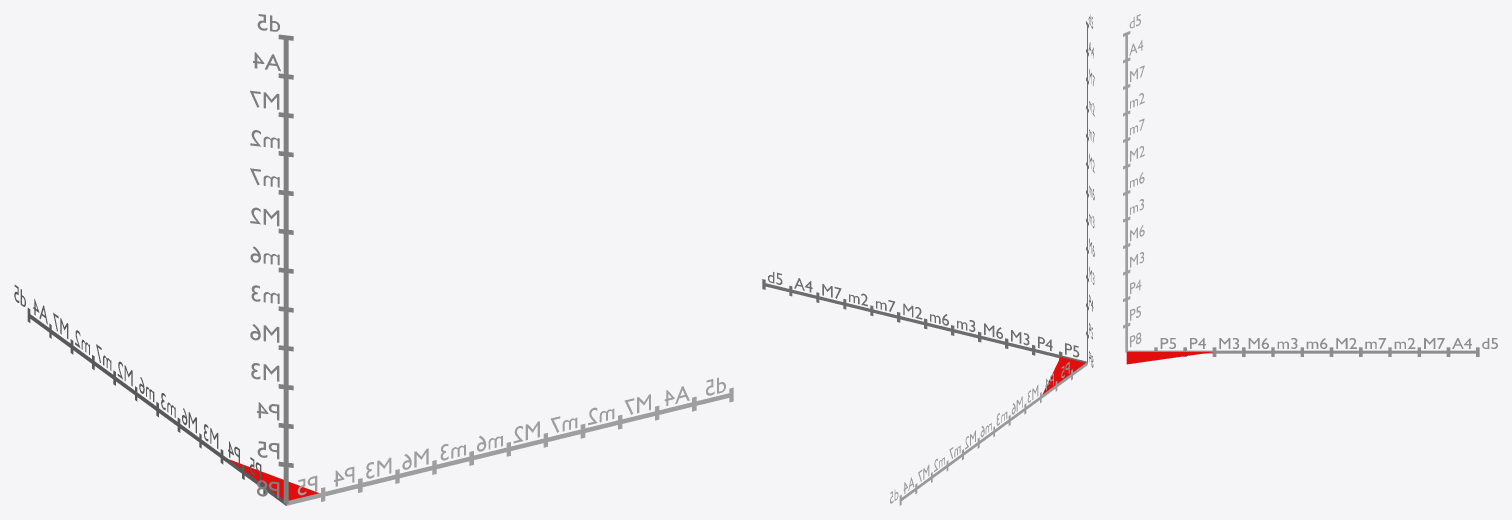
Rendered from FinalBeatBass.glb.
3 renders of one model, left to right at view 1: azimuth 30°, elevation 25°; view 2: azimuth 150°, elevation 25°; view 3: azimuth 270°, elevation 25°, orthographic. The views are drawn at different scales.
Parts seen in each view (by area): view 1: z axis, x axis, y axis; view 2: x axis, y axis, intervals, z axis; view 3: y axis, z axis, intervals.
Part boxes in pixels (<box>): z axis: <box>278,34,293,503</box>; x axis: <box>286,387,733,505</box>; y axis: <box>27,308,286,505</box>; x axis: <box>762,279,1086,362</box>; y axis: <box>899,362,1087,505</box>; intervals: <box>1042,357,1085,394</box>; z axis: <box>1086,21,1088,363</box>; y axis: <box>1126,347,1479,356</box>; z axis: <box>1123,31,1130,352</box>; intervals: <box>1126,352,1213,364</box>.
Size of the model in its own units: 1.06 by 1.06 by 1.07.
